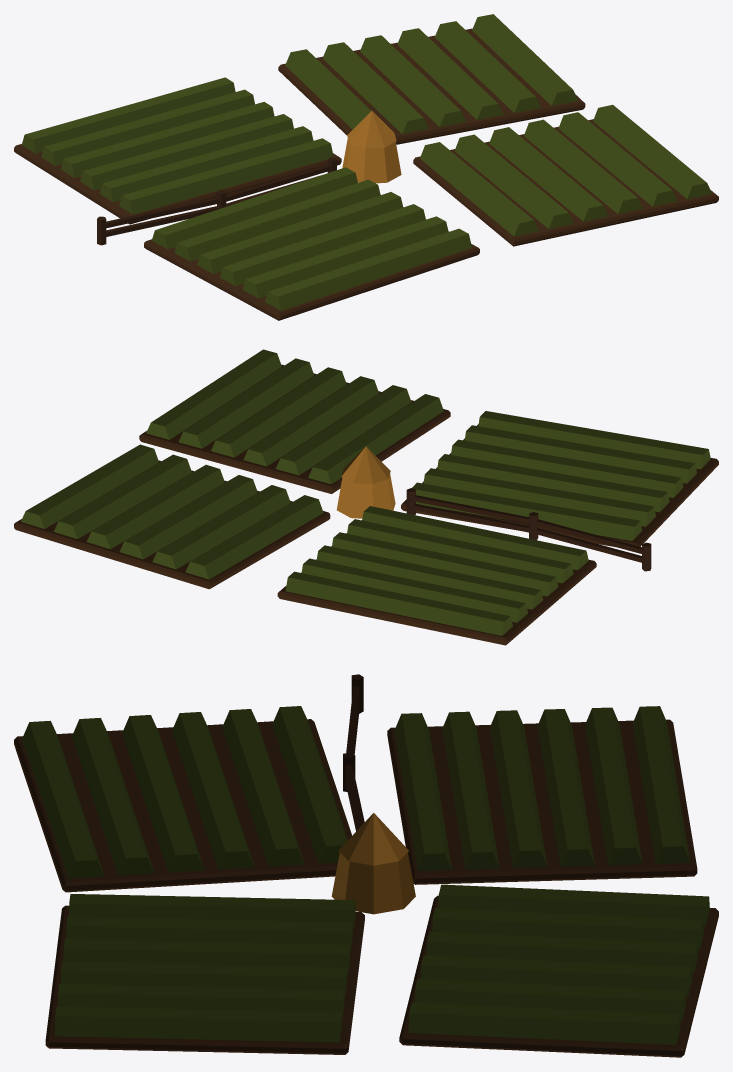
The model's file is farm.obj.
3 views of the same model, one above another, from view 1: azimuth 30°, elevation 25°; view 2: azimuth 150°, elevation 25°; view 3: azimuth 270°, elevation 25° (orthographic). The views are drawn at different scales.
Visible parts, largest first — view 1: core_crop, core_dirt, core_wood, core_hay; view 2: core_crop, core_dirt, core_wood, core_hay; view 3: core_crop, core_dirt, core_hay, core_wood.
Boxes of the visible parts, left/top/right/bottom form: core_crop: left=22, top=14, right=711, bottom=310; core_dirt: left=14, top=28, right=718, bottom=320; core_wood: left=97, top=157, right=336, bottom=245; core_hay: left=342, top=111, right=401, bottom=183; core_crop: left=21, top=349, right=710, bottom=635; core_dirt: left=14, top=364, right=718, bottom=645; core_wood: left=406, top=488, right=651, bottom=571; core_hay: left=336, top=446, right=395, bottom=518; core_crop: left=22, top=706, right=709, bottom=1044; core_dirt: left=14, top=719, right=718, bottom=1057; core_hay: left=331, top=813, right=415, bottom=914; core_wood: left=343, top=674, right=364, bottom=831.
Bounding box in the file's own units: 0.9839 × 0.11 × 0.8365.
